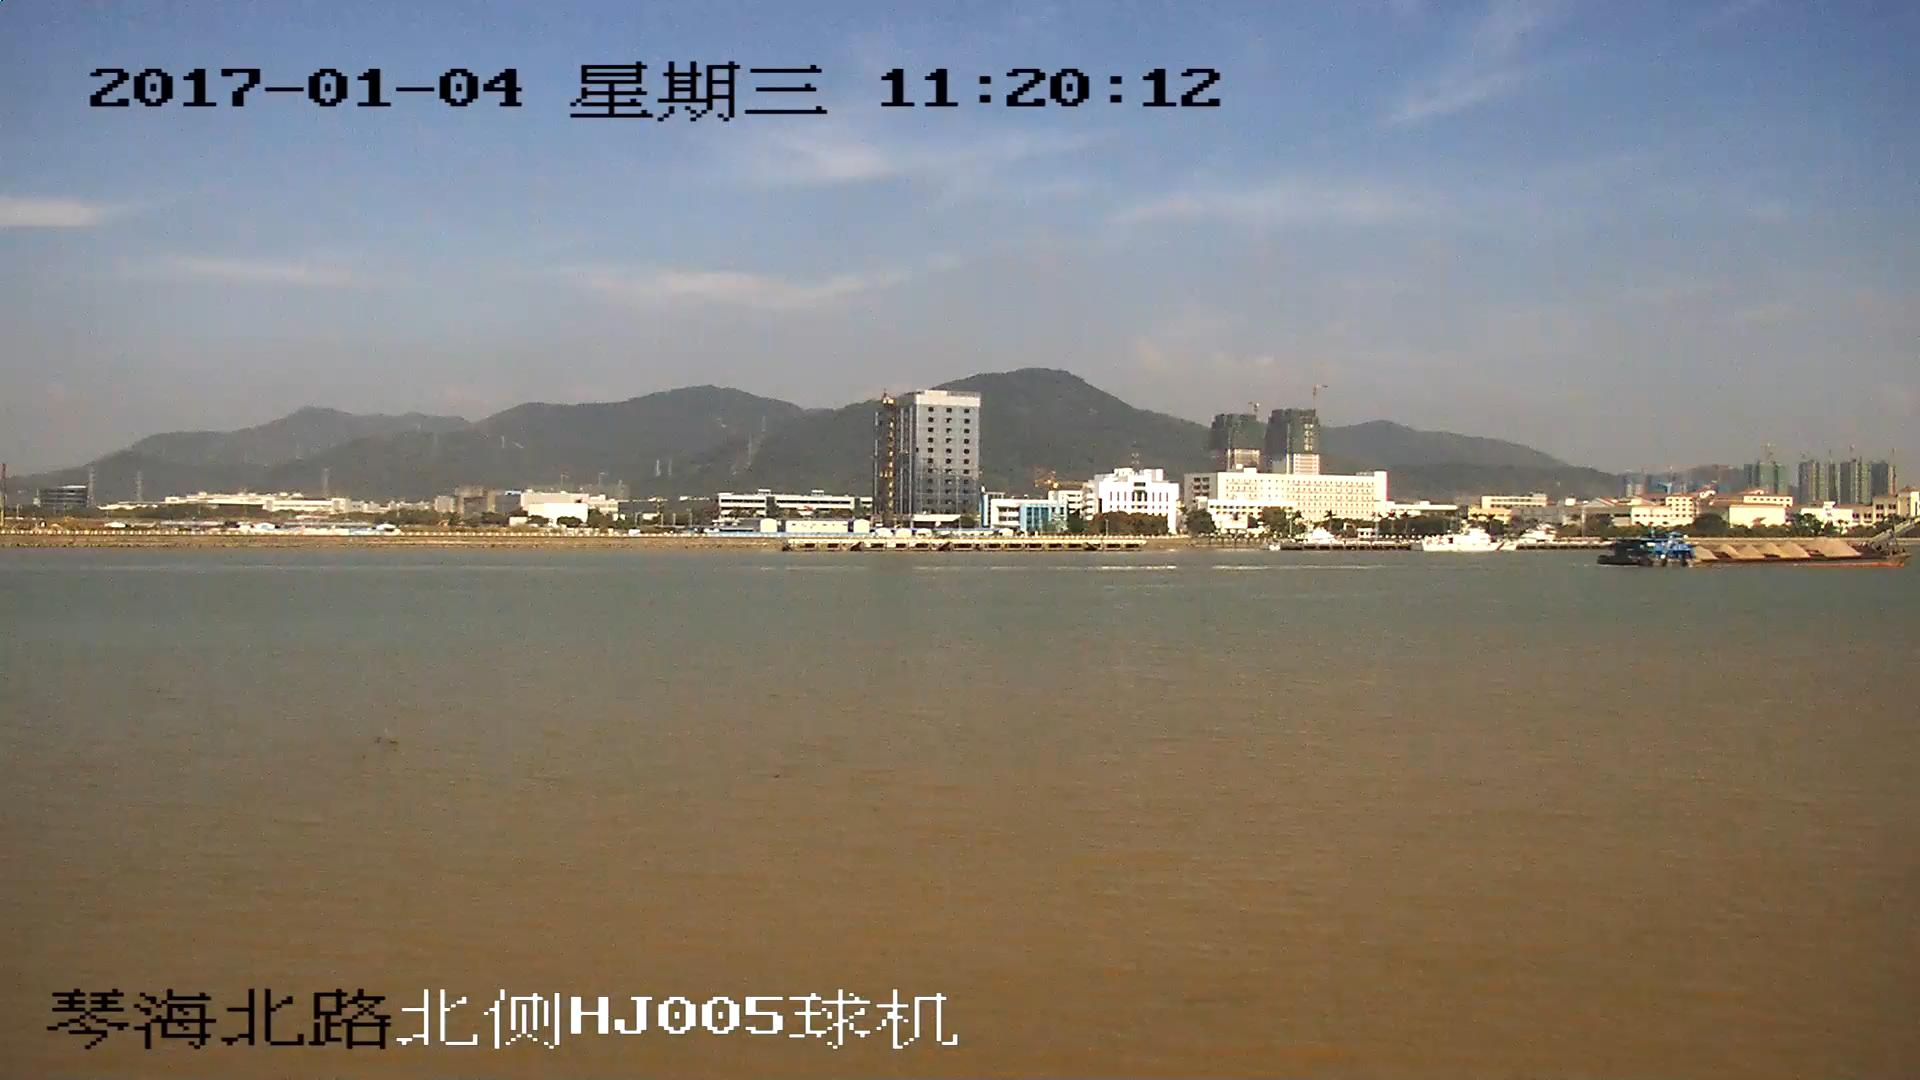ore carrier: (1598, 515, 1920, 570)
